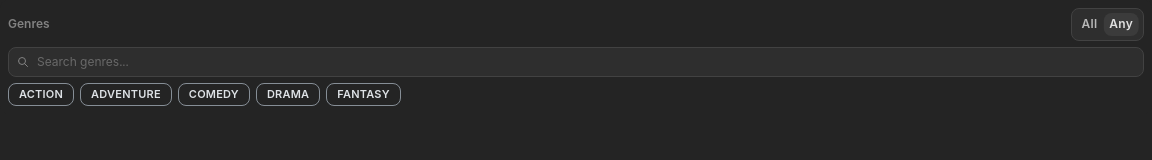
it: FilterGroup › searchable › shows a no-matches message when the query yields nothing
This screenshot has width=1152, height=160.
Step 1. Type "zzz" into the field labelled "Search genres..." → (576, 62), box x1=8 y1=47 x2=1144 y2=77
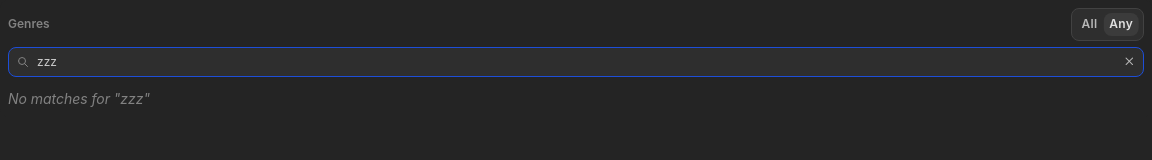
Result: the text "No matches for \"zzz\"" is shown at x1=8 y1=90 x2=150 y2=107
